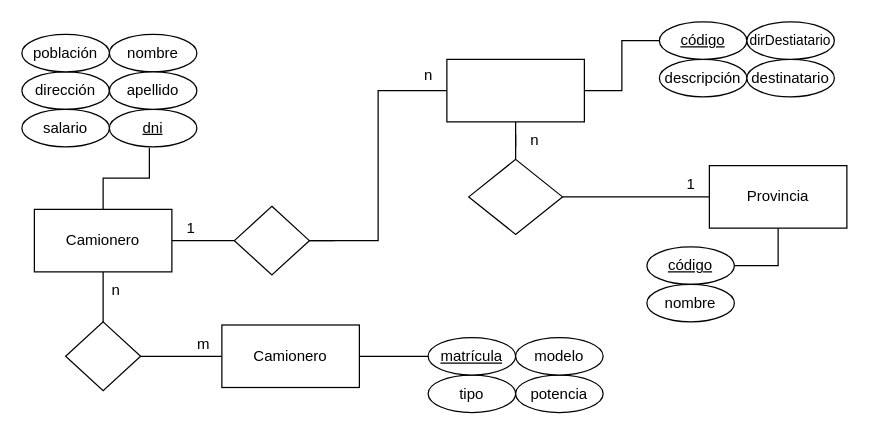
The diagram is 869 pixels wide and 435 high, and some of its shapes have lost their labels. Here are the shapes that lost their labels. From the top down, the box of each, then its label:
(446, 58, 584, 122): Paquete
(468, 158, 562, 234): vaPara
(233, 205, 309, 275): transporta
(64, 321, 141, 391): maneja
